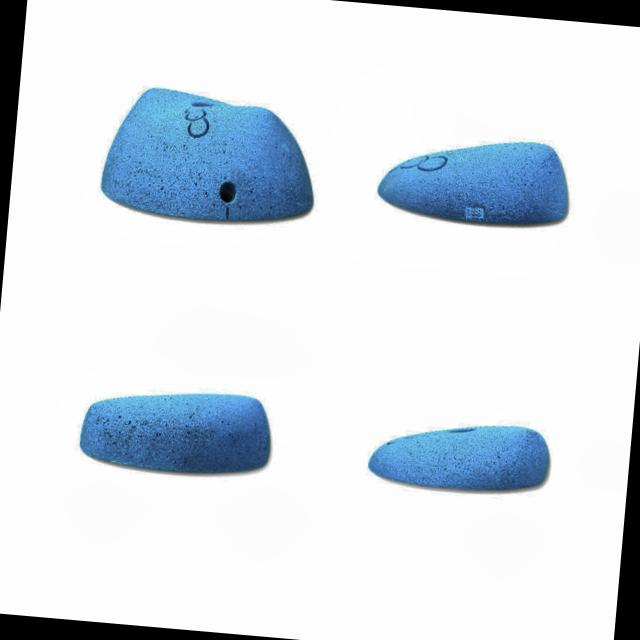Hold: (95, 78, 327, 232), (72, 380, 276, 480), (378, 125, 574, 228), (362, 410, 552, 502)
